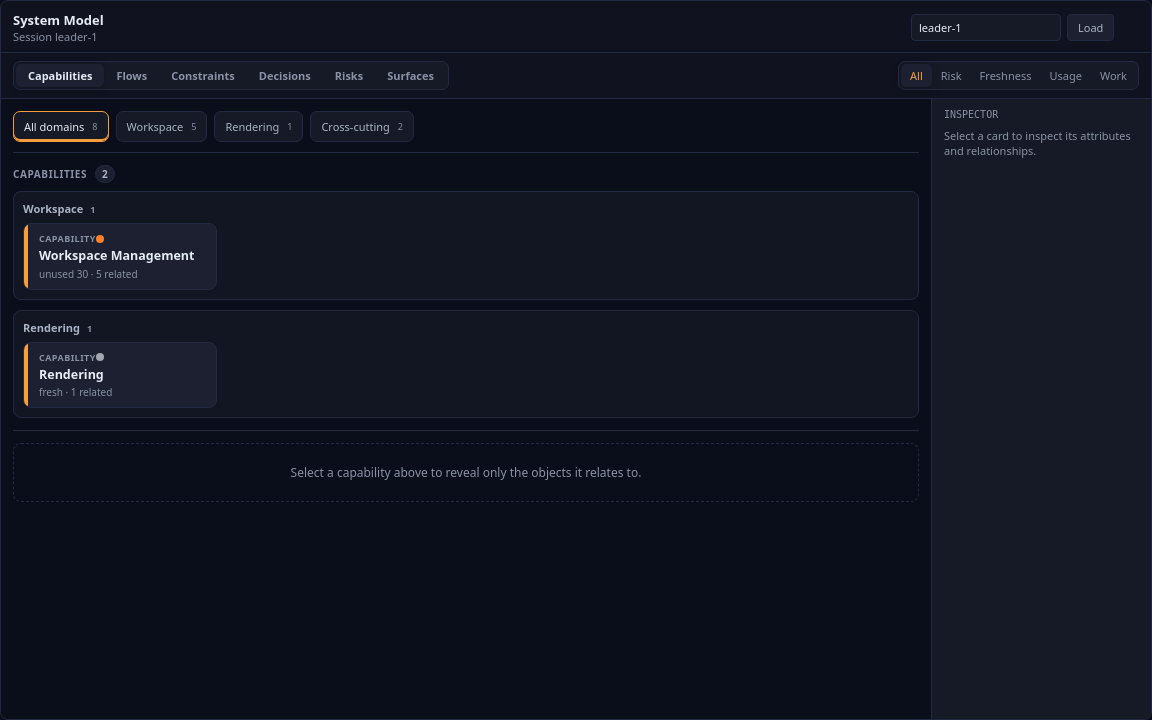
Test: SystemGraphNodeRenderer › shows every capability entry point and suggested files in the surface inverse view
Expected: the button with aria-label "Inspect Workspace Management" is shown, [23,223,217,290]
Click the button "Surfaces": click(411, 76) [375,64,446,87]
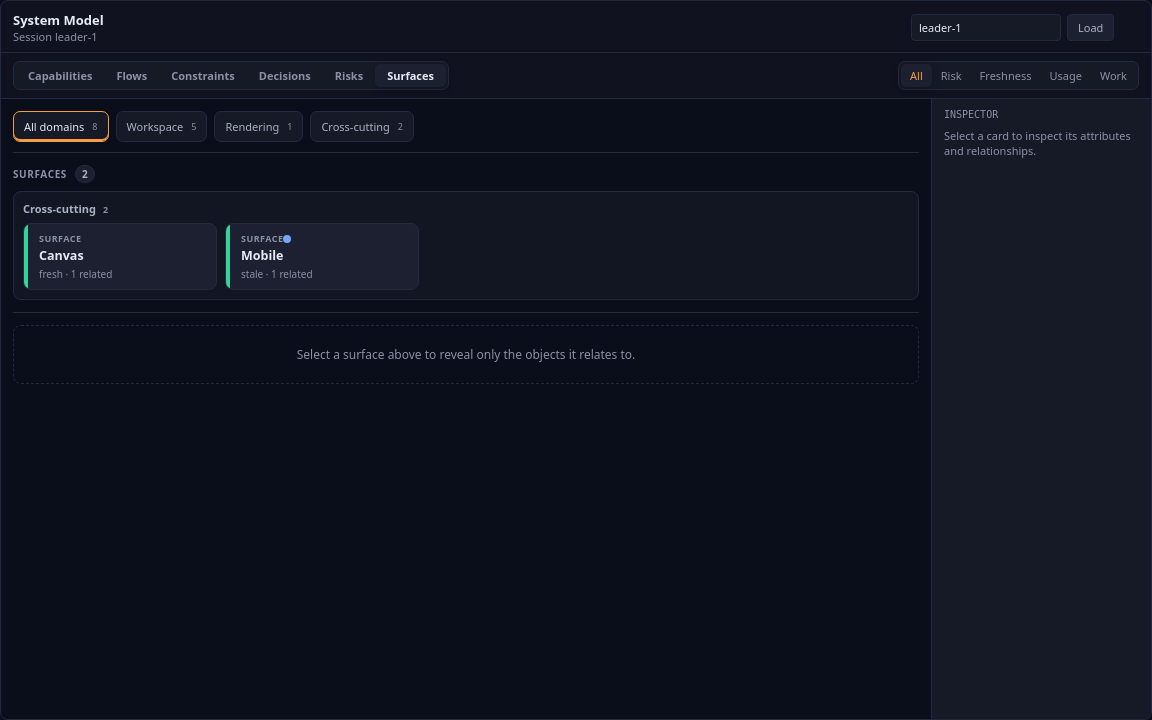
Click the button with aria-label "Inspect Canvas": click(120, 256) [23,223,217,290]
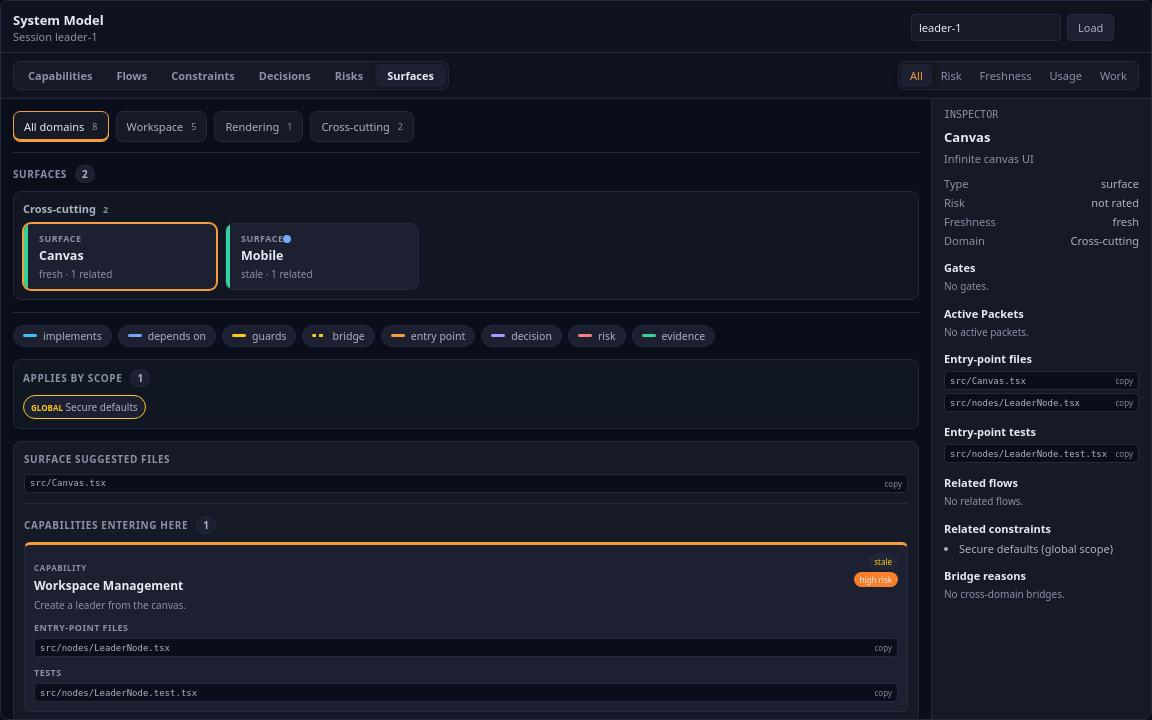
Result: the heading "Workspace Management" is shown at [34,577,183,594]
Result: the button "Copy src/Canvas.tsx" below "Surface suggested files" is shown at [24,474,908,493]
Result: the button "Copy src/nodes/LeaderNode.tsx" below "Create a leader from the canvas." is shown at [34,638,898,657]
